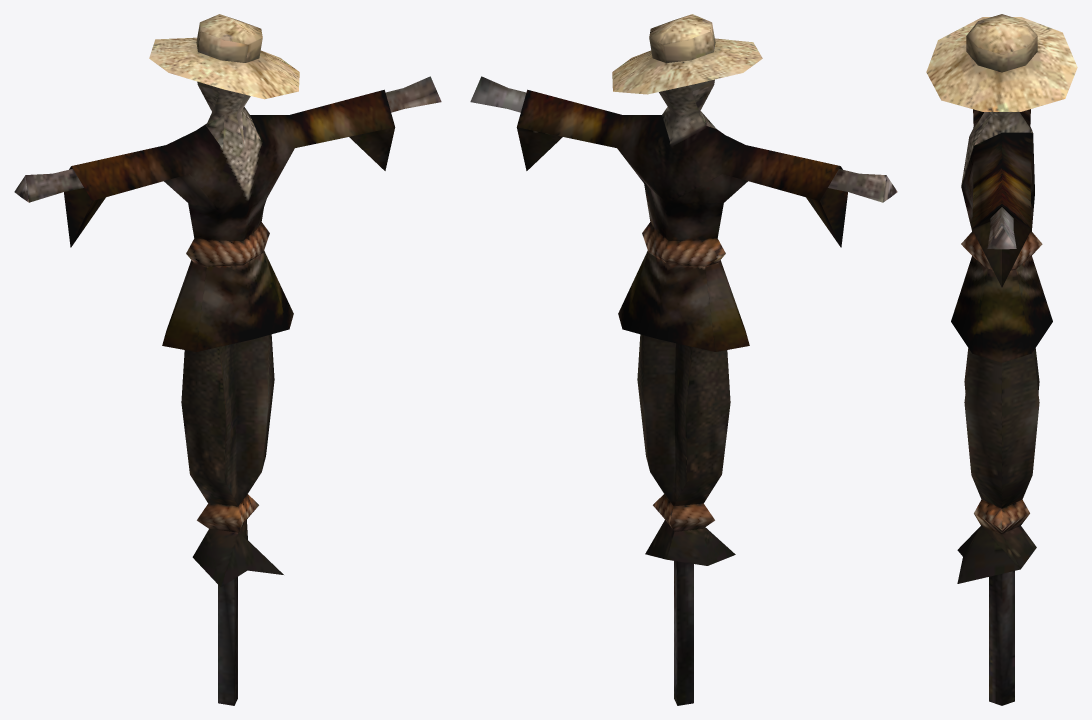
Rendered from building_scarecrow.glb.
The picture shows the model from 3 angles, left to right: view 1: azimuth 30°, elevation 25°; view 2: azimuth 150°, elevation 25°; view 3: azimuth 270°, elevation 25°; orthographic projection.
Parts seen in each view (by area): view 1: building_scarecrow; view 2: building_scarecrow; view 3: building_scarecrow.
Part boxes in pixels (x1,y1,x2,y2): building_scarecrow: [14, 14, 441, 705]; building_scarecrow: [470, 14, 897, 705]; building_scarecrow: [926, 14, 1077, 705].
Bounding box in the file's own units: 1.76 × 2.78 × 0.5607.
Materials: 1 (1 with a texture image).
